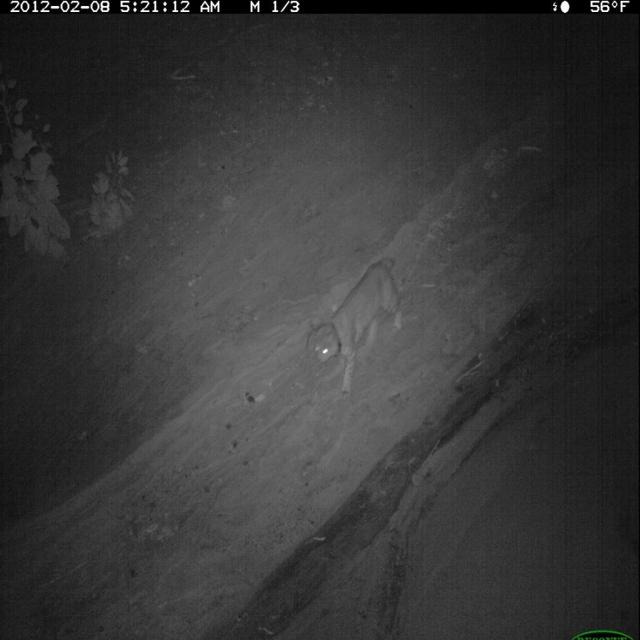bobcat: (308, 252, 406, 403)
